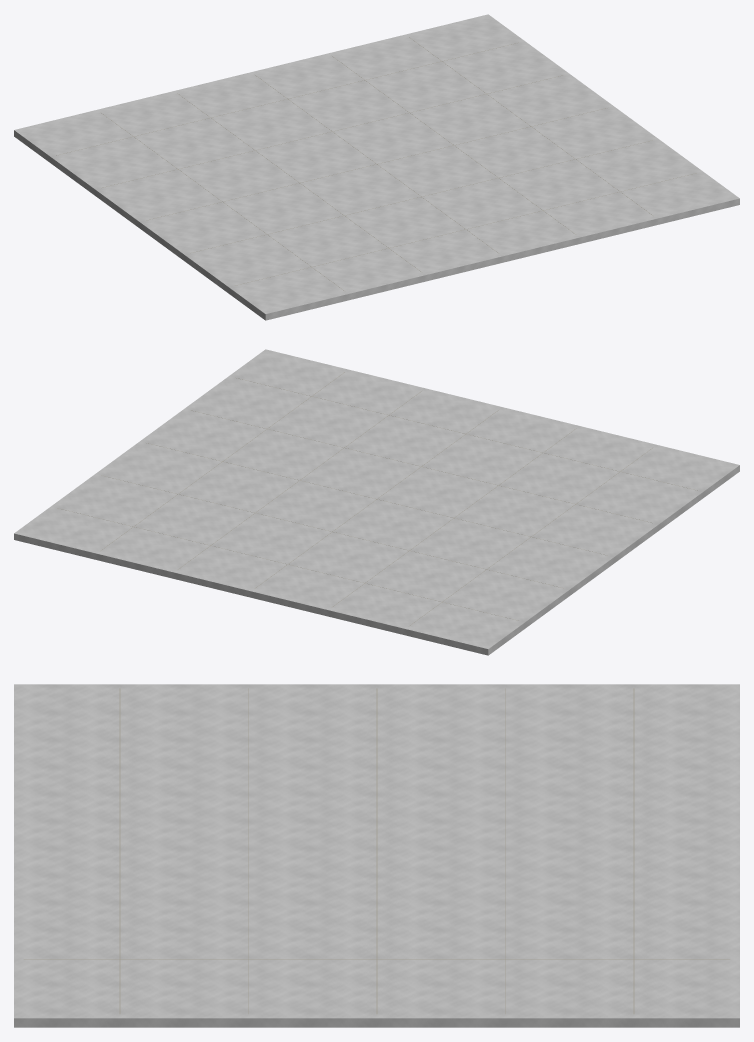
File: floor.glb
3 views of the same model, one above another, from view 1: azimuth 30°, elevation 25°; view 2: azimuth 150°, elevation 25°; view 3: azimuth 270°, elevation 25° (orthographic). The views are drawn at different scales.
Visible parts, largest first — view 1: floor_Concrete, floor_CanvasEdge; view 2: floor_Concrete, floor_CanvasEdge; view 3: floor_Concrete, floor_CanvasEdge.
Part boxes in pixels (<box>): floor_Concrete: <box>14,14,739,320</box>; floor_CanvasEdge: <box>56,37,696,290</box>; floor_Concrete: <box>14,349,739,655</box>; floor_CanvasEdge: <box>57,372,697,625</box>; floor_Concrete: <box>14,684,739,1027</box>; floor_CanvasEdge: <box>24,688,729,1013</box>.
Bounding box in the file's own units: 24.6 × 0.322 × 22.6.
Materials: 2 (1 with a texture image).
